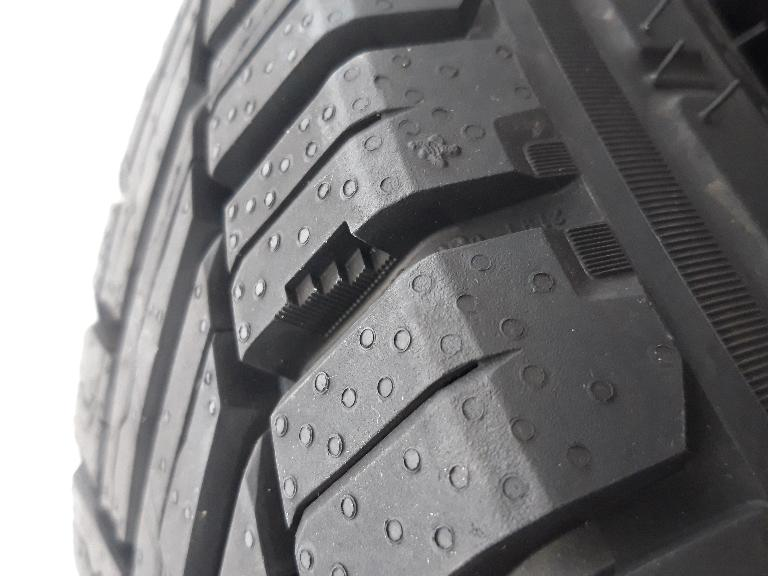temoin:100: (268, 215, 405, 347)
